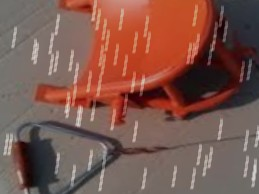chock: (25, 0, 259, 156)
